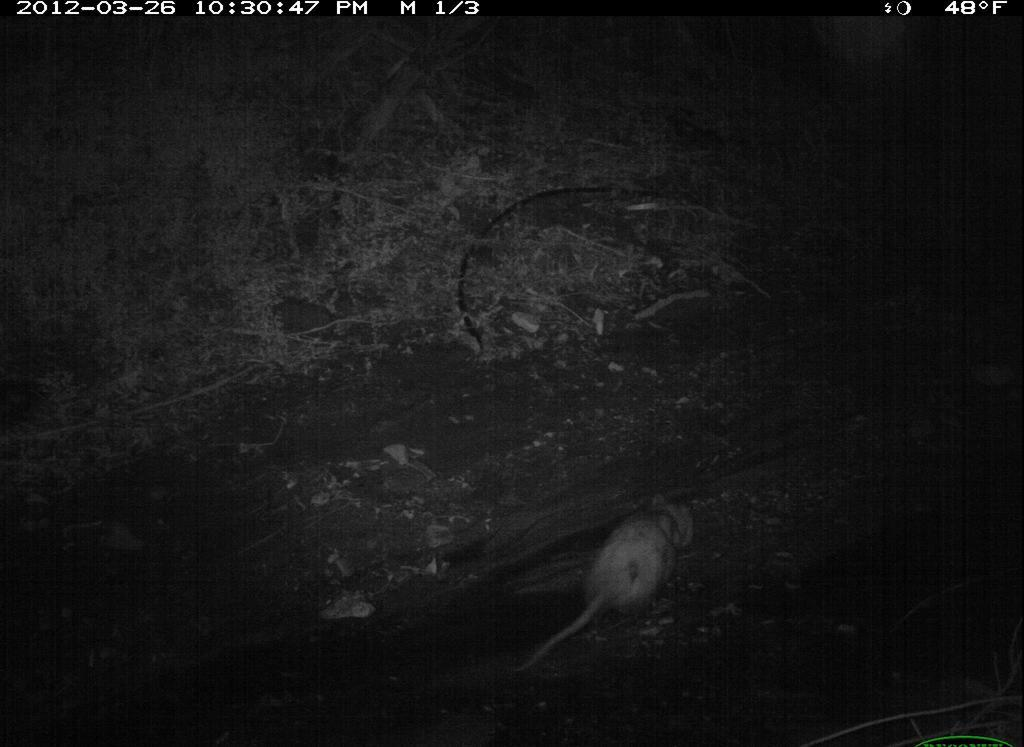opossum: (527, 479, 716, 693)
